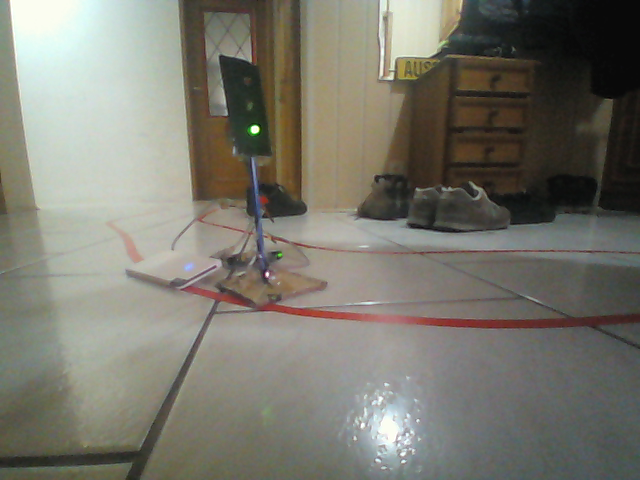green_sign: (215, 50, 275, 158)
